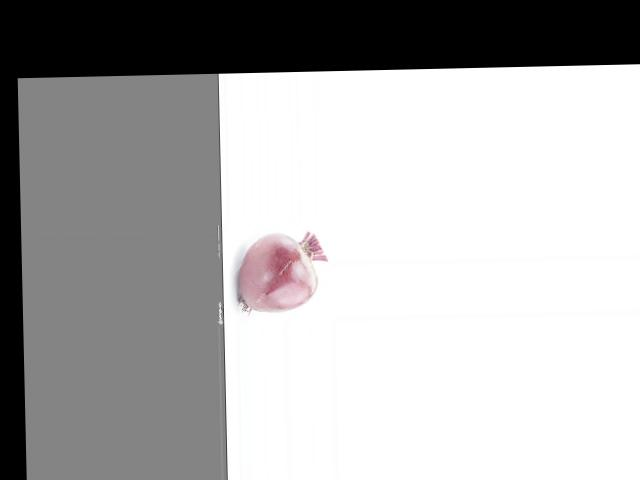beet: (237, 231, 328, 312)
